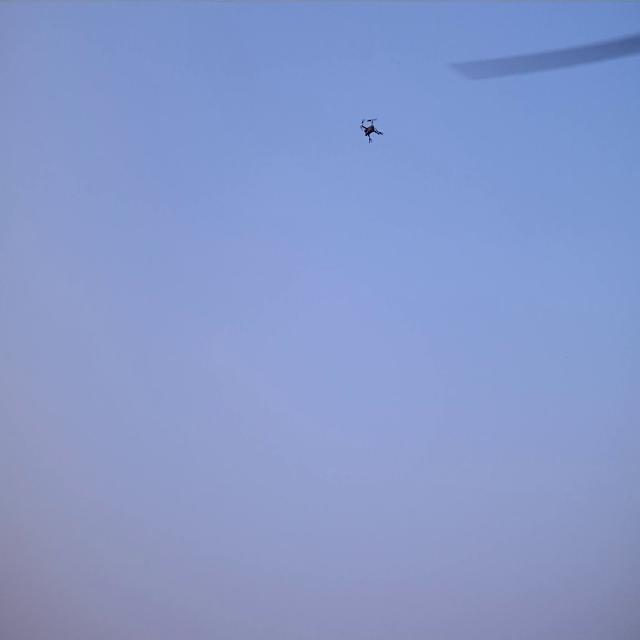UAV: (361, 120, 381, 142)
